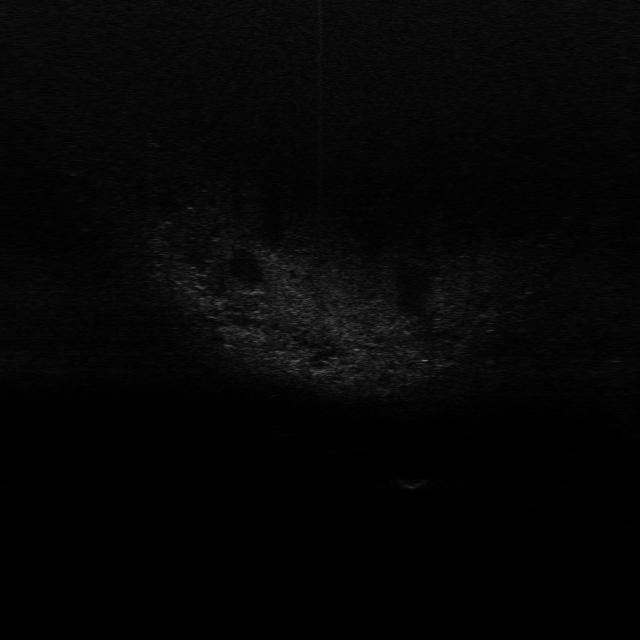cube: (392, 478, 432, 491)
